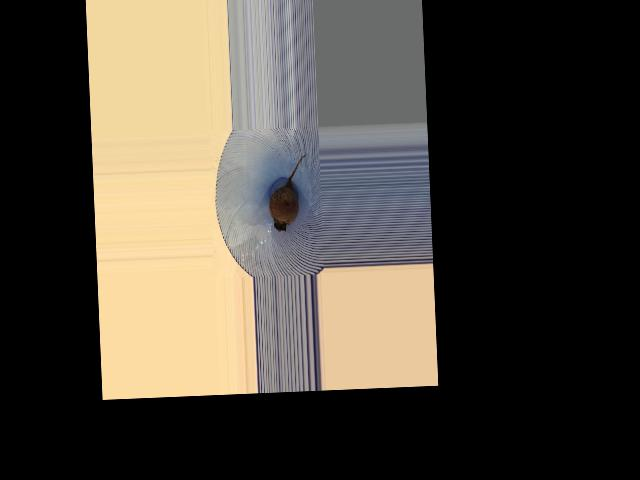beet: (267, 154, 309, 232)
